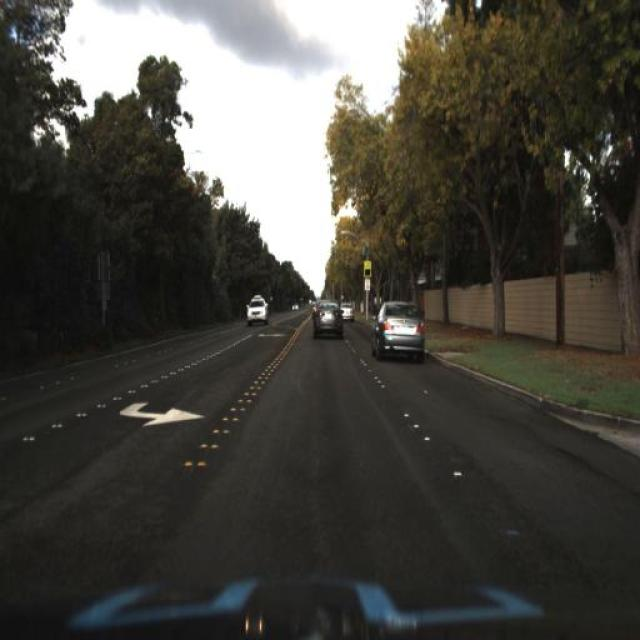car: (362, 298, 442, 372), (307, 296, 348, 346), (240, 292, 272, 331), (338, 295, 354, 320)
